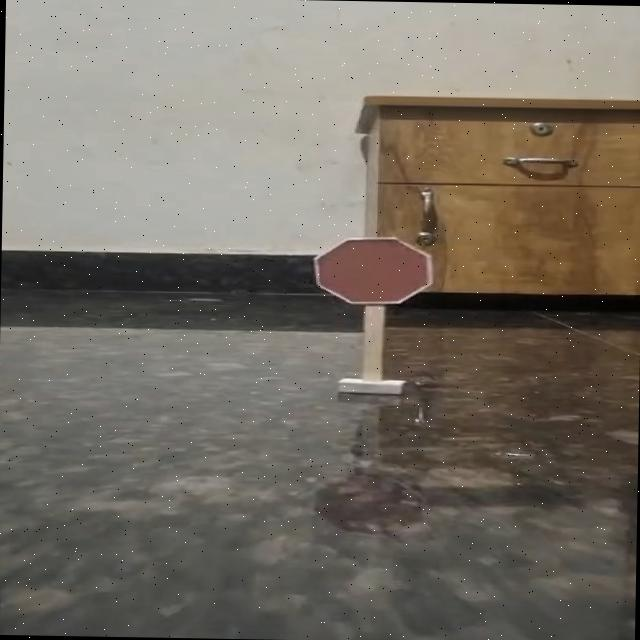Stop: (293, 224, 450, 314)
